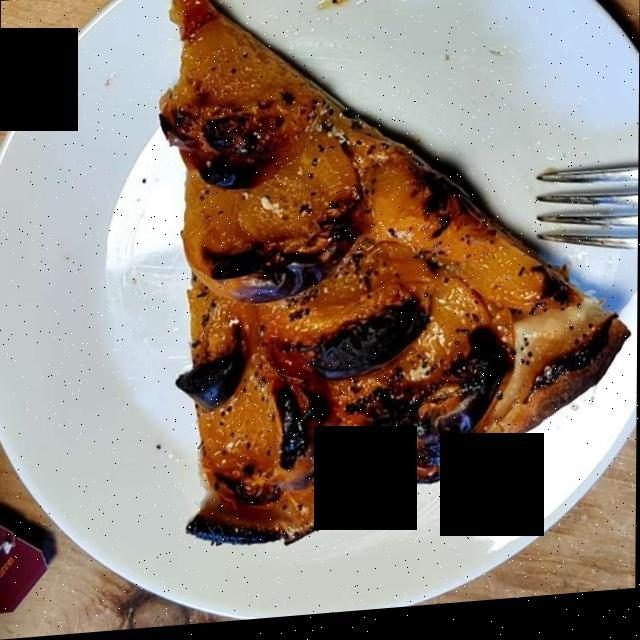pie: (167, 11, 621, 544)
